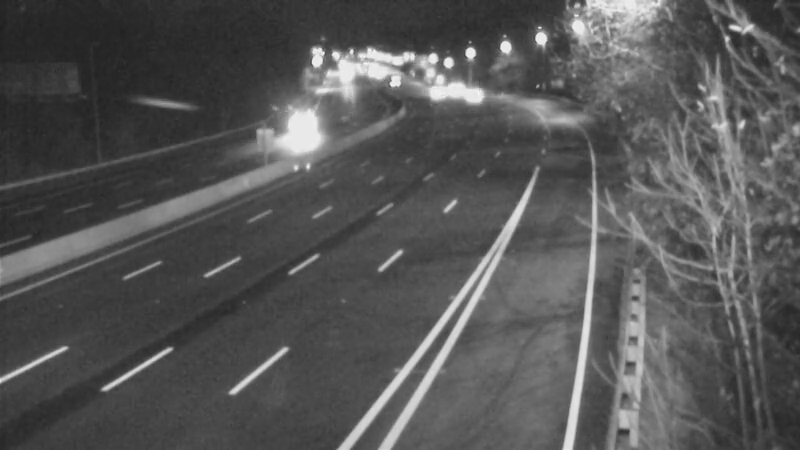vehicle: (366, 54, 416, 104), (429, 65, 479, 115), (446, 66, 496, 116), (411, 69, 461, 119), (272, 105, 322, 155)
